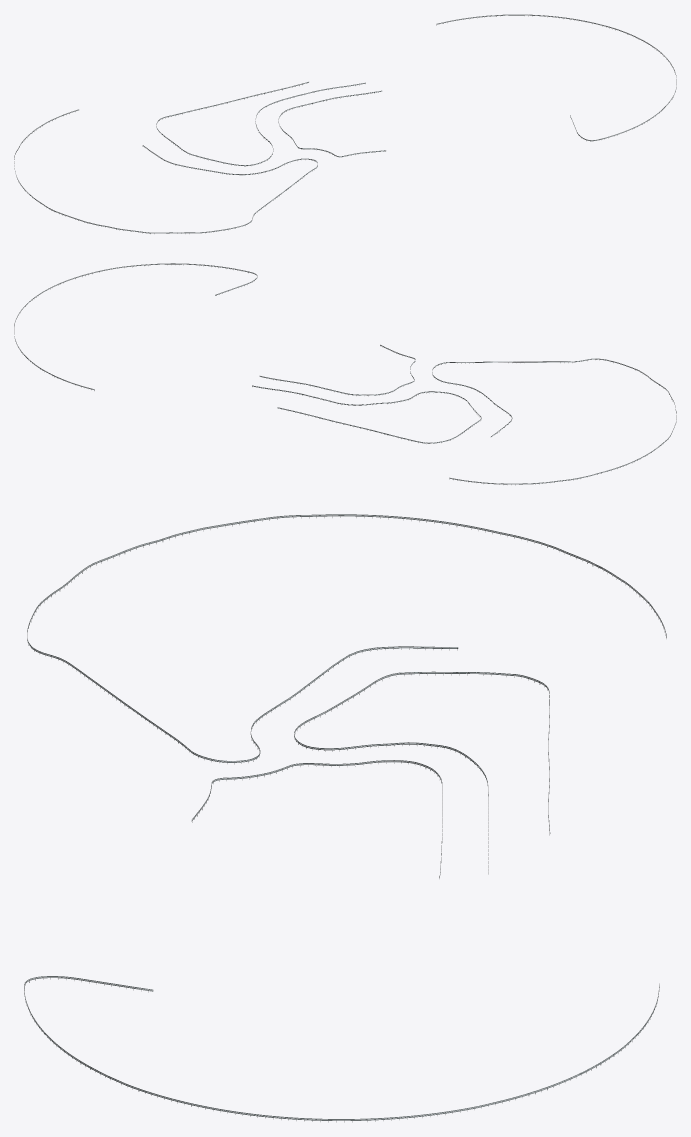
Rendered from oval_mod_barriers.FBX.
The picture shows the model from 3 angles, top to bottom: view 1: azimuth 30°, elevation 25°; view 2: azimuth 150°, elevation 25°; view 3: azimuth 270°, elevation 25°; orthographic projection. The views are drawn at different scales.
Visible parts, largest first — view 1: barriers002, barriers_004, barriers1, barriers_003; view 2: barriers002, barriers_004, barriers1, barriers_003; view 3: barriers002, barriers1, barriers_004.
Part boxes in pixels (<box>): barriers002: <box>14,109,317,233</box>; barriers_004: <box>156,82,365,166</box>; barriers1: <box>437,14,676,141</box>; barriers_003: <box>278,90,385,157</box>; barriers002: <box>432,358,676,484</box>; barriers_004: <box>252,385,481,443</box>; barriers1: <box>14,263,257,390</box>; barriers_003: <box>259,345,415,395</box>; barriers002: <box>27,514,666,762</box>; barriers1: <box>24,976,659,1120</box>; barriers_004: <box>294,671,550,833</box>.
Bounding box in the file's own units: 21302 × 460 × 9570.
